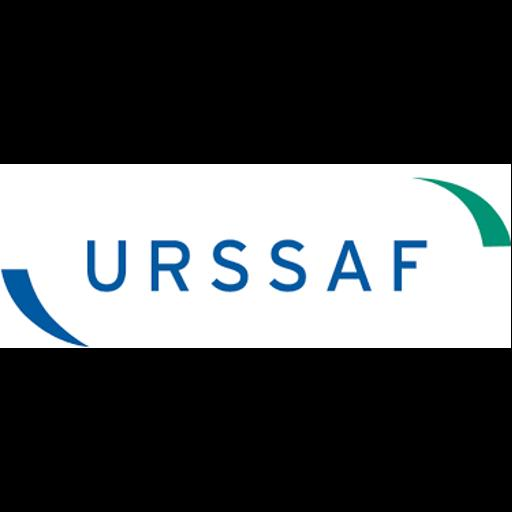URSSAF: (0, 164, 511, 348)
